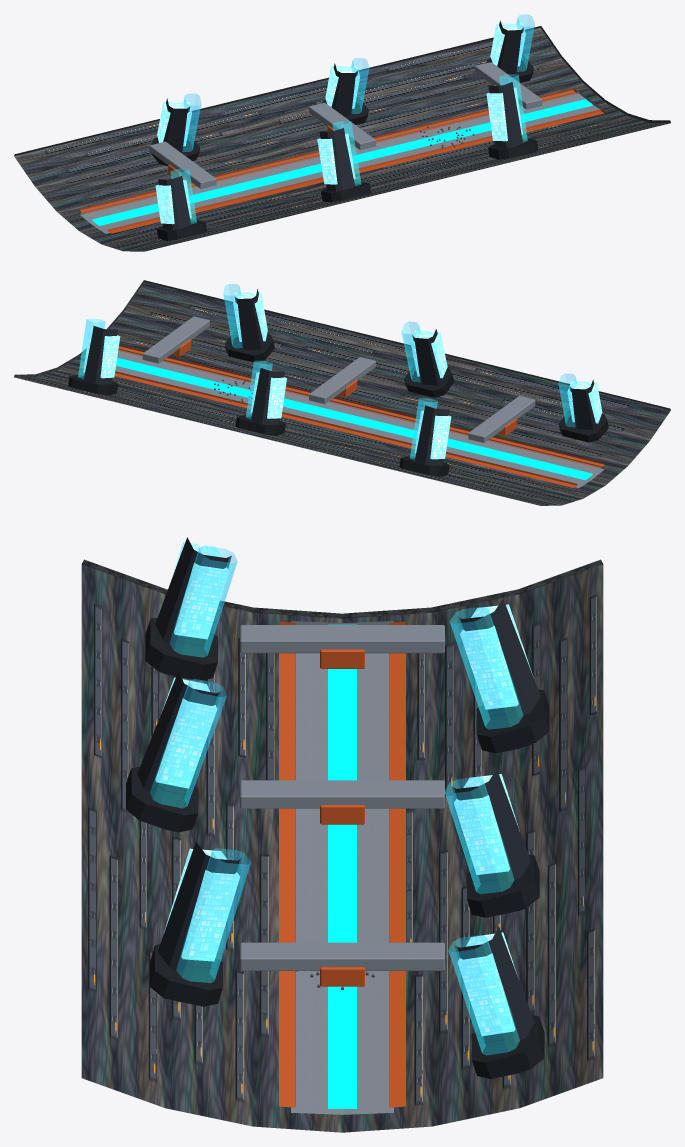
Rendered from valley_c_industrial_switchyard_port.glb.
3 views of the same model, one above another, from view 1: azimuth 30°, elevation 25°; view 2: azimuth 150°, elevation 25°; view 3: azimuth 270°, elevation 25° (orthographic). The views are drawn at different scales.
Parts seen in each view (by area): view 1: ValleyC_IndustrialSwitchyardPort_cliff_basalt, ValleyC_IndustrialSwitchyardPort_steel_machined, ValleyC_IndustrialSwitchyardPort_carbon_slate, ValleyC_IndustrialSwitchyardPort_accent_orange, ValleyC_IndustrialSwitchyardPort_window_cool_ind, ValleyC_IndustrialSwitchyardPort_glass_cyan, ValleyC_IndustrialSwitchyardPort_led_cyan, ValleyC_IndustrialSwitchyardPort_gunmetal; view 2: ValleyC_IndustrialSwitchyardPort_cliff_basalt, ValleyC_IndustrialSwitchyardPort_steel_machined, ValleyC_IndustrialSwitchyardPort_carbon_slate, ValleyC_IndustrialSwitchyardPort_accent_orange, ValleyC_IndustrialSwitchyardPort_window_cool_ind, ValleyC_IndustrialSwitchyardPort_gunmetal, ValleyC_IndustrialSwitchyardPort_glass_cyan, ValleyC_IndustrialSwitchyardPort_led_cyan; view 3: ValleyC_IndustrialSwitchyardPort_cliff_basalt, ValleyC_IndustrialSwitchyardPort_steel_machined, ValleyC_IndustrialSwitchyardPort_glass_cyan, ValleyC_IndustrialSwitchyardPort_window_cool_ind, ValleyC_IndustrialSwitchyardPort_carbon_slate, ValleyC_IndustrialSwitchyardPort_accent_orange, ValleyC_IndustrialSwitchyardPort_gunmetal, ValleyC_IndustrialSwitchyardPort_led_cyan.
Part boxes in pixels (box(x1,y1,x2,y2)): ValleyC_IndustrialSwitchyardPort_cliff_basalt: box(14, 26, 670, 251); ValleyC_IndustrialSwitchyardPort_steel_machined: box(80, 62, 604, 233); ValleyC_IndustrialSwitchyardPort_carbon_slate: box(157, 20, 523, 229); ValleyC_IndustrialSwitchyardPort_accent_orange: box(80, 85, 604, 233); ValleyC_IndustrialSwitchyardPort_window_cool_ind: box(155, 22, 525, 224); ValleyC_IndustrialSwitchyardPort_glass_cyan: box(170, 14, 534, 224); ValleyC_IndustrialSwitchyardPort_led_cyan: box(92, 99, 592, 225); ValleyC_IndustrialSwitchyardPort_gunmetal: box(151, 55, 537, 240); ValleyC_IndustrialSwitchyardPort_cliff_basalt: box(14, 280, 670, 505); ValleyC_IndustrialSwitchyardPort_steel_machined: box(80, 316, 604, 488); ValleyC_IndustrialSwitchyardPort_carbon_slate: box(84, 289, 602, 465); ValleyC_IndustrialSwitchyardPort_accent_orange: box(80, 339, 604, 487); ValleyC_IndustrialSwitchyardPort_window_cool_ind: box(83, 292, 602, 459); ValleyC_IndustrialSwitchyardPort_gunmetal: box(68, 331, 608, 476); ValleyC_IndustrialSwitchyardPort_glass_cyan: box(78, 284, 576, 459); ValleyC_IndustrialSwitchyardPort_led_cyan: box(116, 357, 592, 480); ValleyC_IndustrialSwitchyardPort_cliff_basalt: box(81, 559, 603, 1132); ValleyC_IndustrialSwitchyardPort_steel_machined: box(240, 621, 444, 1114); ValleyC_IndustrialSwitchyardPort_glass_cyan: box(150, 546, 523, 1055); ValleyC_IndustrialSwitchyardPort_window_cool_ind: box(155, 542, 533, 1036); ValleyC_IndustrialSwitchyardPort_carbon_slate: box(137, 537, 540, 1046); ValleyC_IndustrialSwitchyardPort_accent_orange: box(279, 621, 405, 1107); ValleyC_IndustrialSwitchyardPort_gunmetal: box(126, 617, 549, 1078); ValleyC_IndustrialSwitchyardPort_led_cyan: box(328, 624, 356, 1108).
Bounding box in the file's own units: 380 × 55.16 × 163.
Materials: 8 (8 with a texture image).
